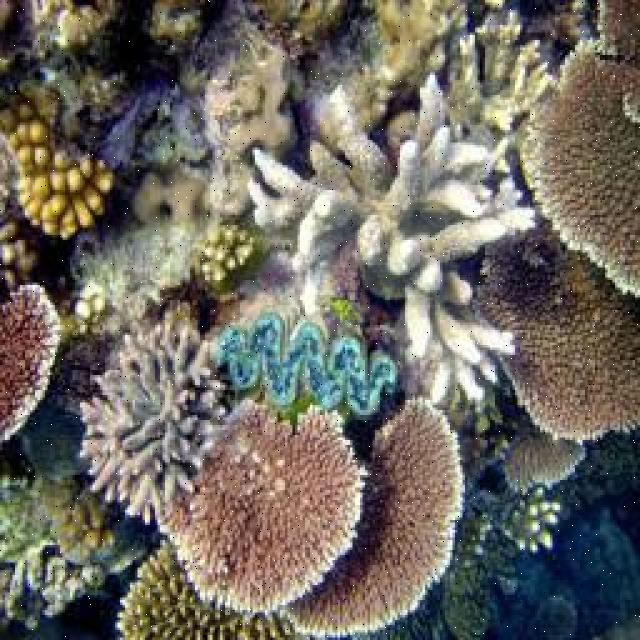reefs: (239, 13, 547, 414), (469, 0, 638, 490), (160, 397, 461, 637), (341, 437, 638, 638), (79, 314, 229, 530), (214, 311, 401, 414), (117, 540, 312, 638), (0, 99, 112, 237), (0, 283, 59, 444)
